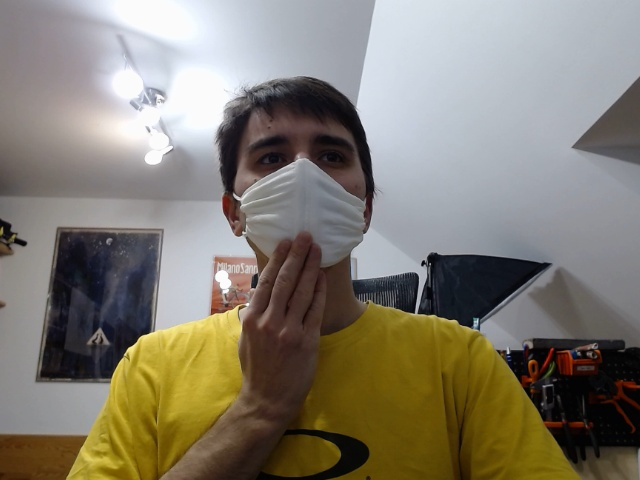CorrectMask: (216, 72, 376, 280)
